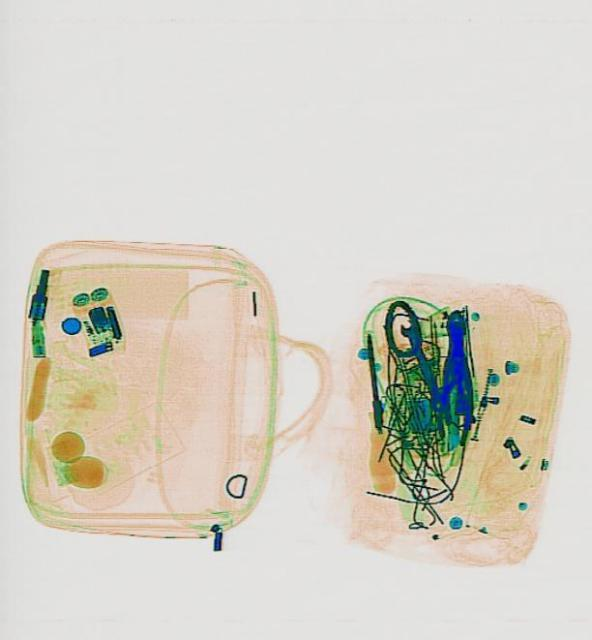Pliers: (438, 307, 469, 421)
Wrench: (396, 317, 444, 411)
